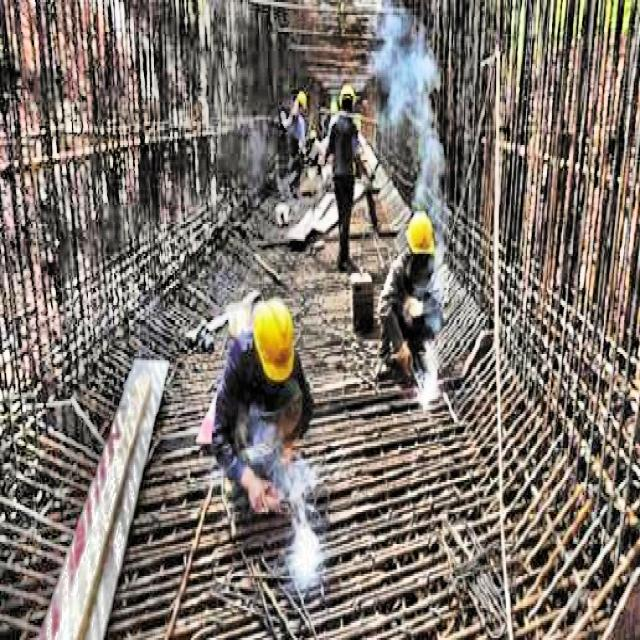helmet: (252, 294, 298, 382), (404, 209, 440, 277), (340, 83, 356, 122)
